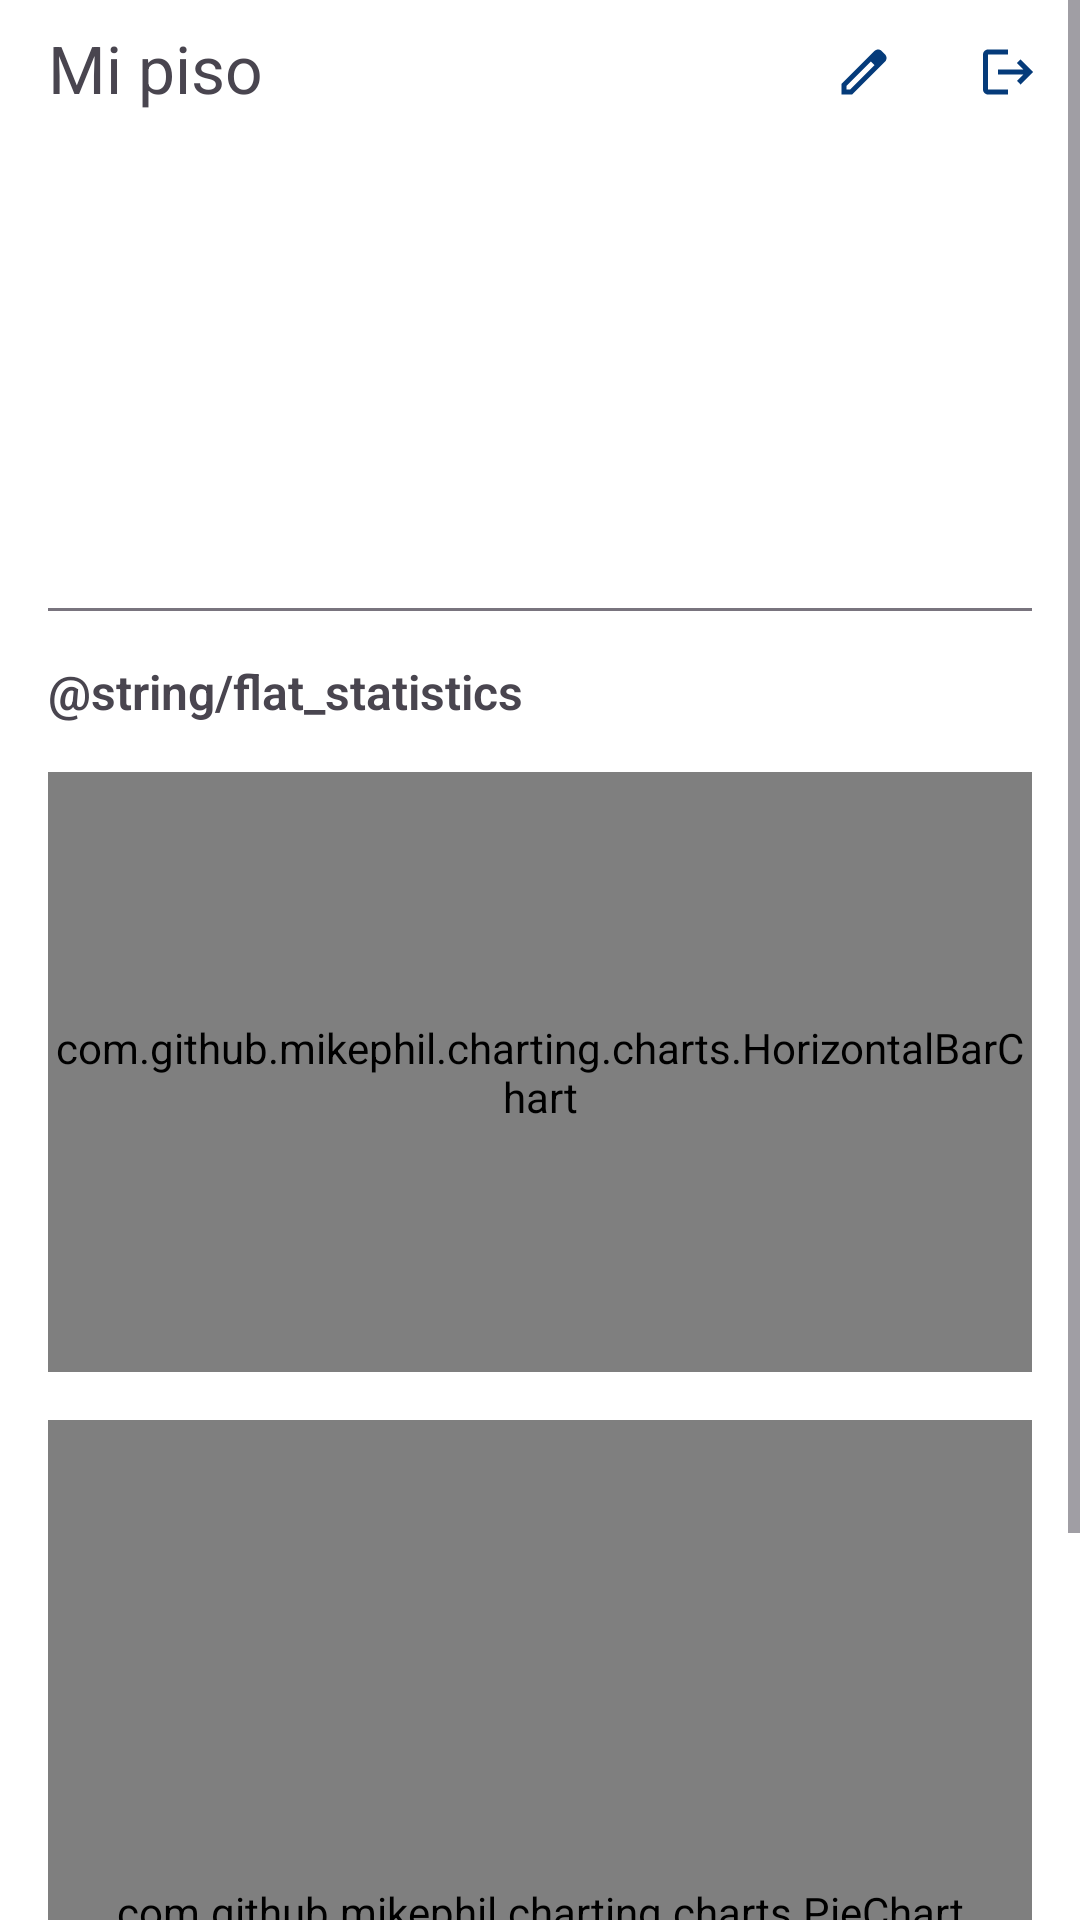

Screen size 1080×1920. Icon name, then its center in pixels as point (x, y):
Editar el piso: point (864, 72)
